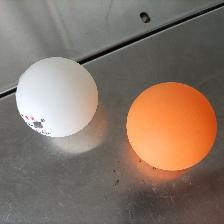WhiteBall: (15, 56, 98, 137)
YellowBall: (125, 81, 216, 171)
